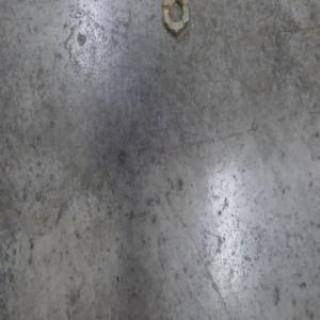Nuttrack_idkeyframe: (160, 0, 189, 41)
